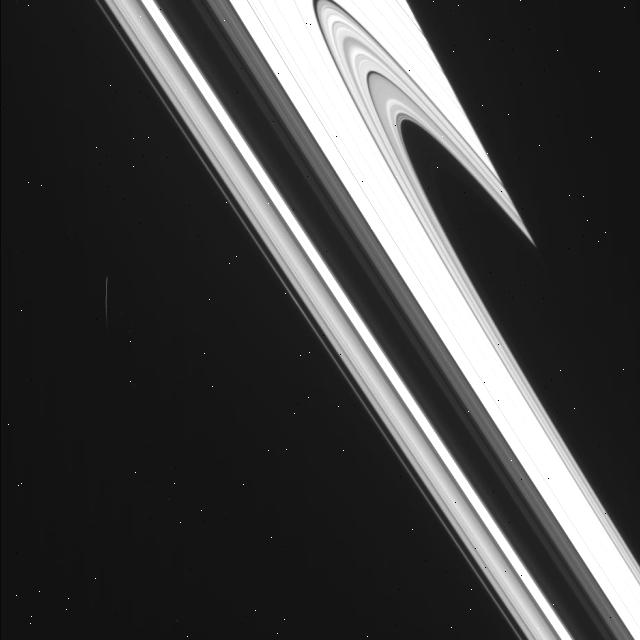Saturn: (58, 0, 640, 640)
